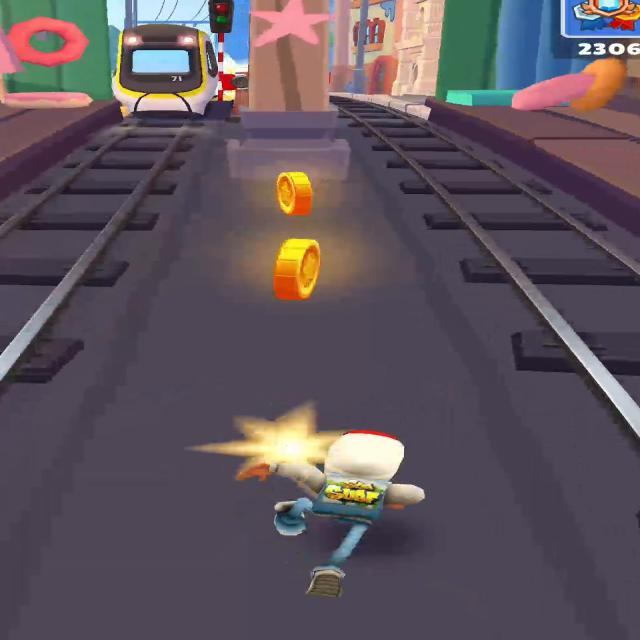block pillar: (227, 0, 349, 179)
blocker: (222, 74, 248, 114)
train: (112, 24, 218, 119)
